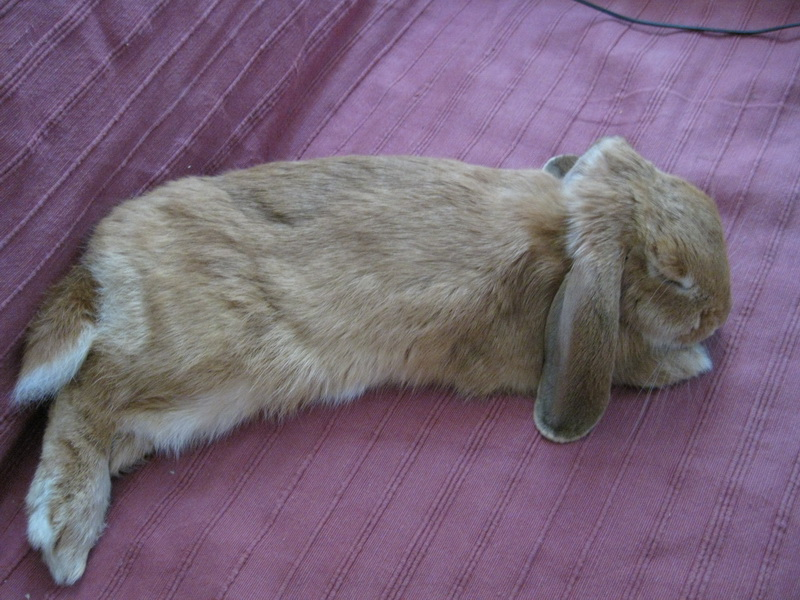bunny: (5, 128, 758, 600)
